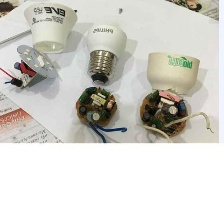light_bulb: (81, 18, 132, 86), (141, 47, 206, 98), (20, 2, 80, 56)
